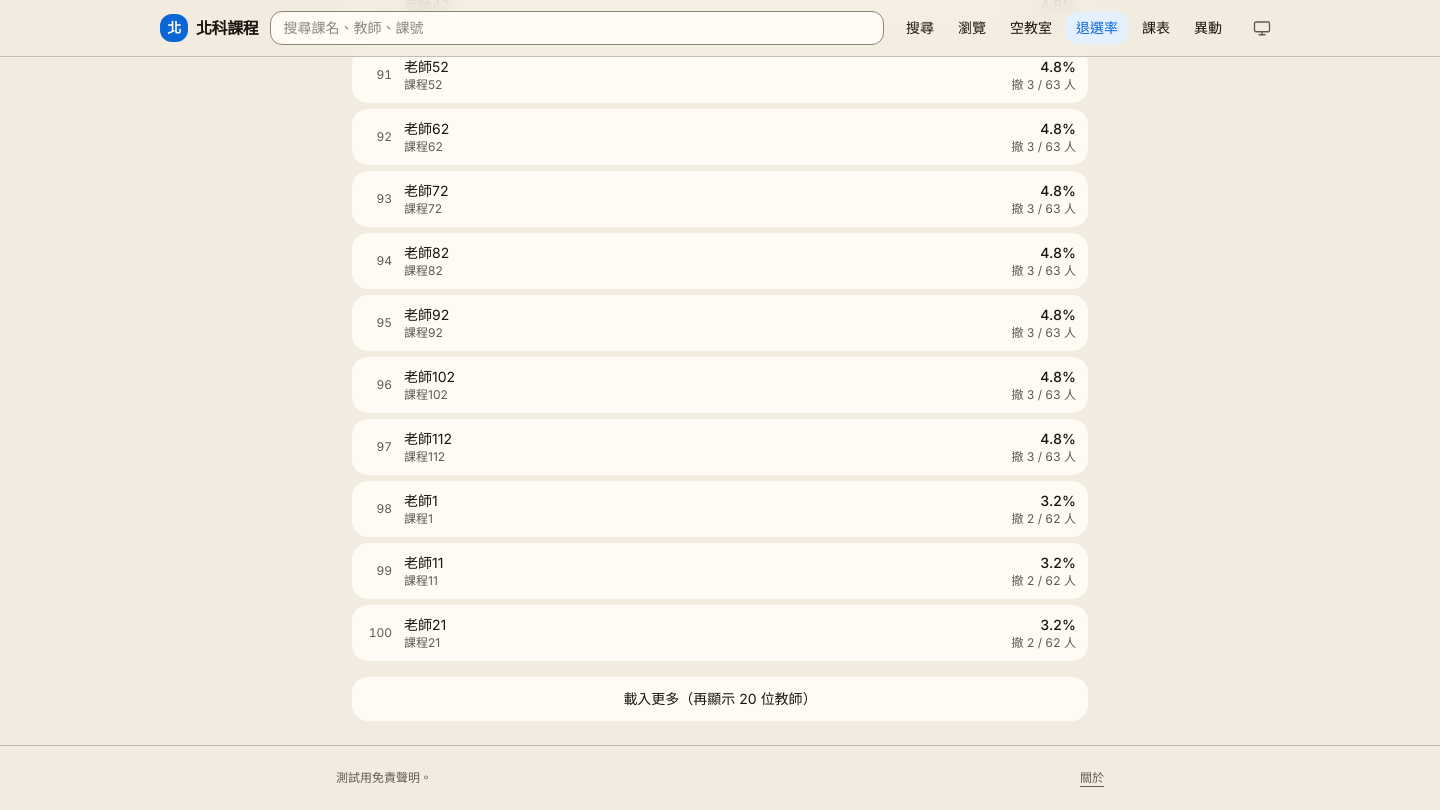
Test: /withdrawal › 一頁 100 筆,其餘按「載入更多」
The width and height of the screenshot is (1440, 810).
(page scrolled)
What coordinates should you click on to do the following:
click the button "載入更多（再顯示 20 位教師）"
I would click on:
 (720, 698)
Its box is left=352, top=676, right=1088, bottom=720.
(page scrolled)
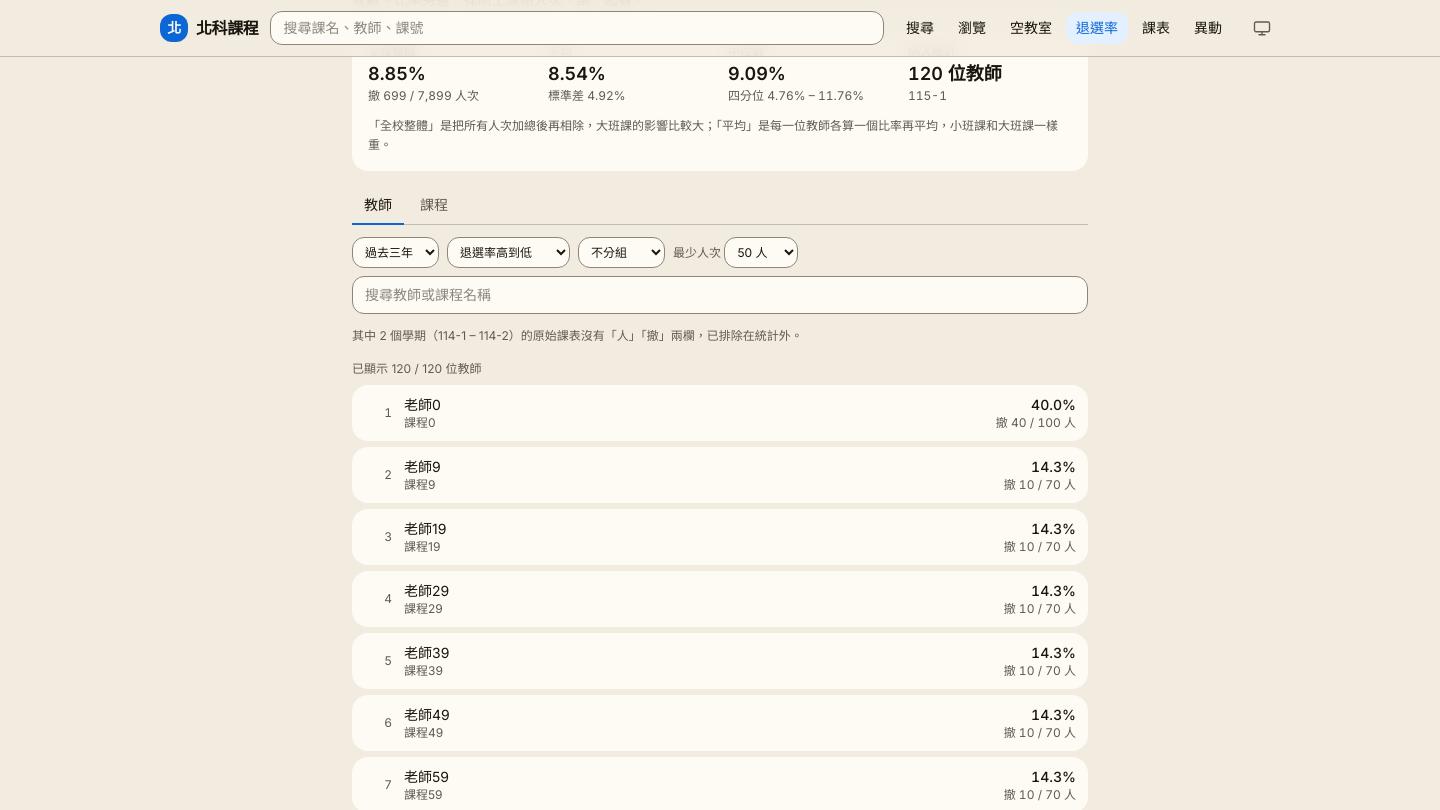
Result: the text "已顯示 120 / 120 位教師" is shown at left=352, top=361, right=481, bottom=376
